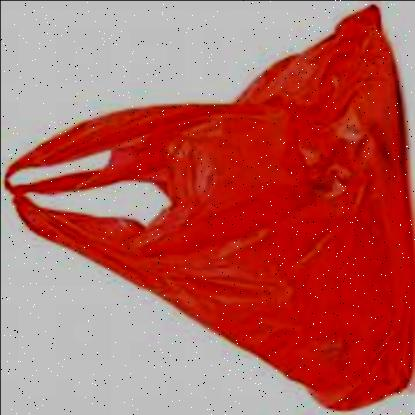Others: (6, 6, 410, 409)
